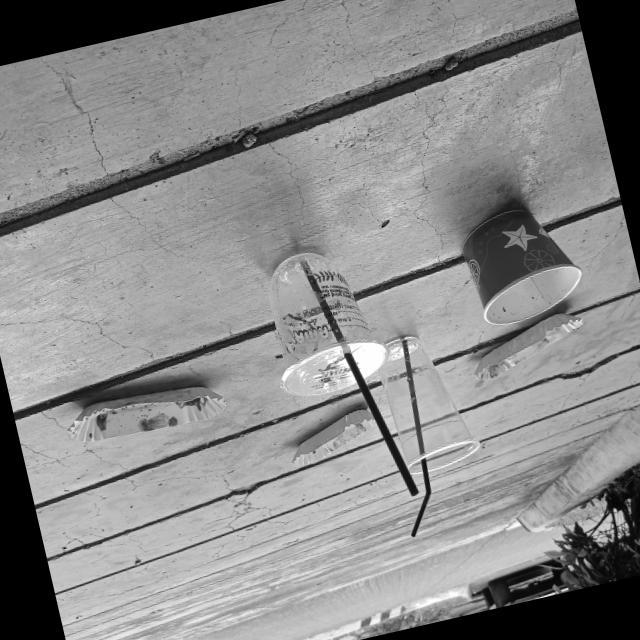recyclable waste: (245, 232, 404, 412), (361, 312, 492, 487), (444, 190, 596, 338), (54, 366, 242, 458), (453, 300, 600, 392), (276, 398, 393, 479)
